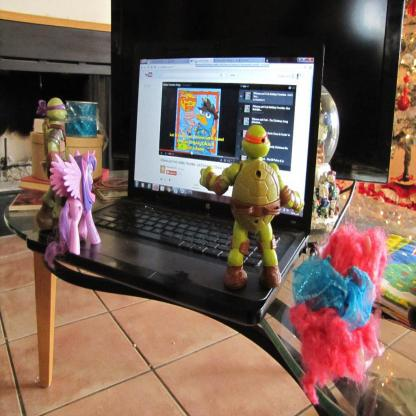board: (26, 41, 324, 326)
